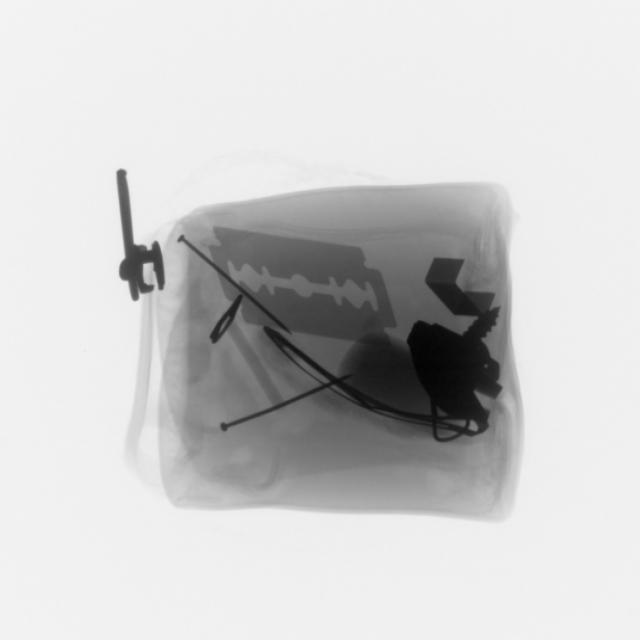BLADE: (194, 218, 407, 354)
